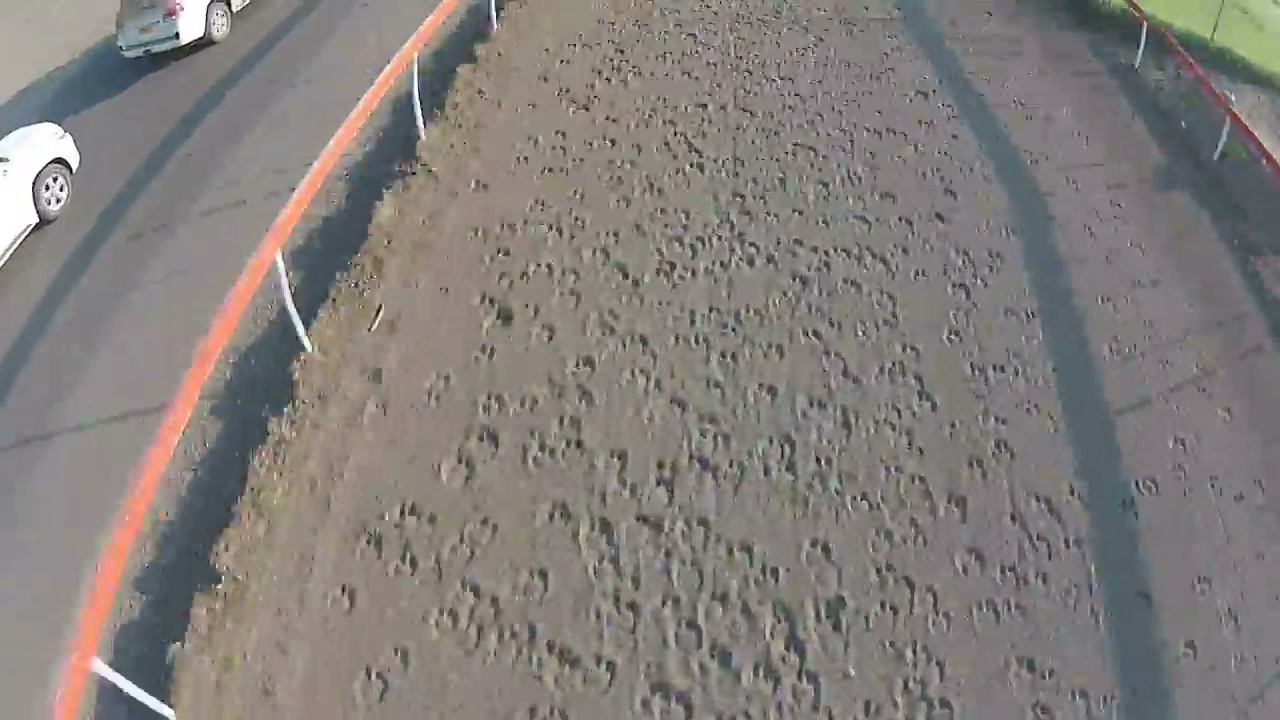animal_foot_print: (380, 64, 837, 689), (802, 155, 982, 682)
